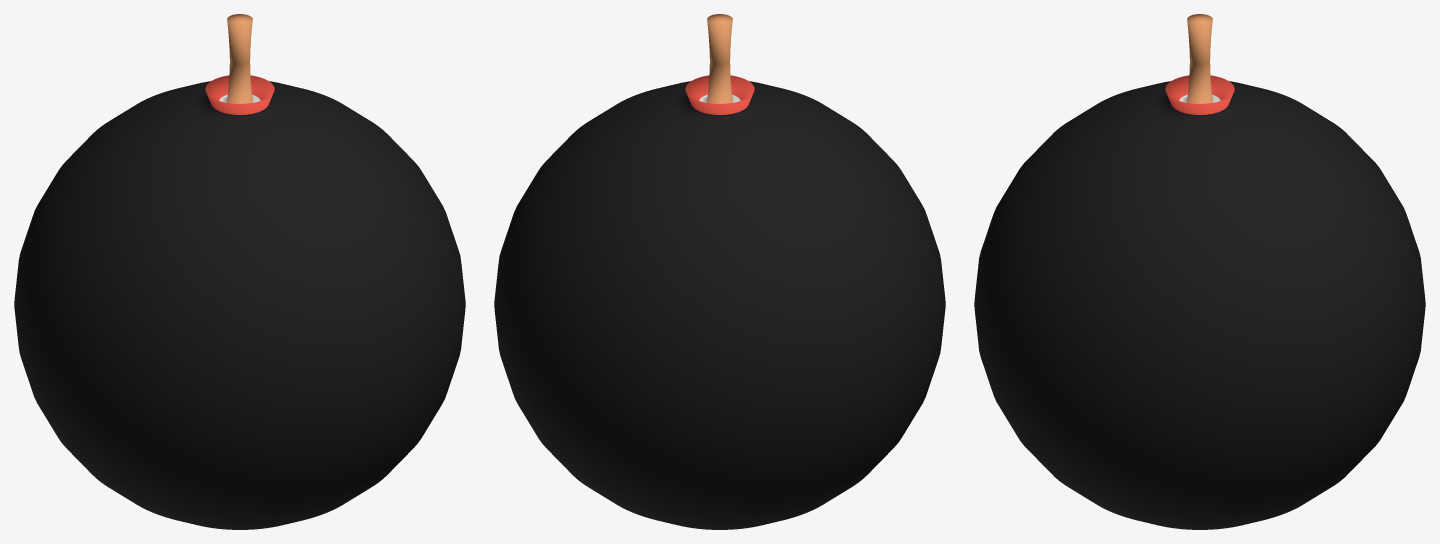
File: bomb.fbx
3 views of the same model, side by side, from view 1: azimuth 30°, elevation 25°; view 2: azimuth 150°, elevation 25°; view 3: azimuth 270°, elevation 25° (orthographic).
Visible parts, largest first — view 1: 球; view 2: 球; view 3: 球.
Boxes of the visible parts, x1,y1,x2,y2 form: 球: (14,14,465,529); 球: (494,14,945,529); 球: (974,14,1425,529).
Size of the model in its own units: 200 by 240 by 200.
